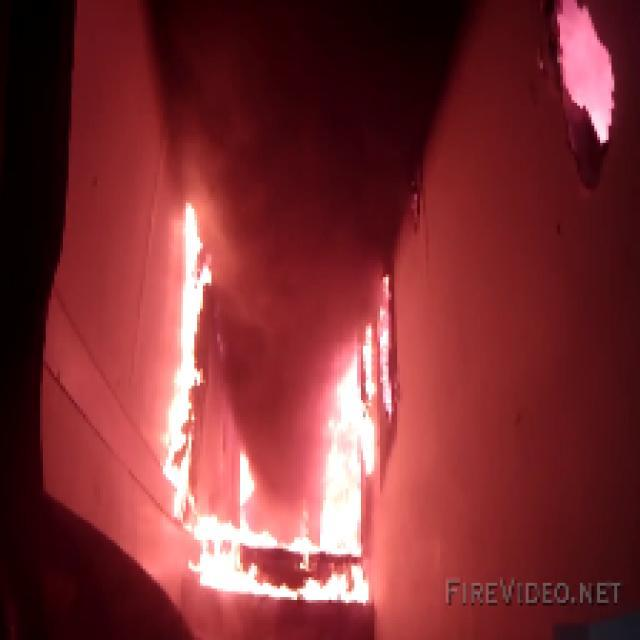Fire: (160, 208, 214, 508), (185, 514, 368, 600), (317, 352, 377, 512)
Smoke: (182, 66, 412, 192), (231, 211, 366, 340)
